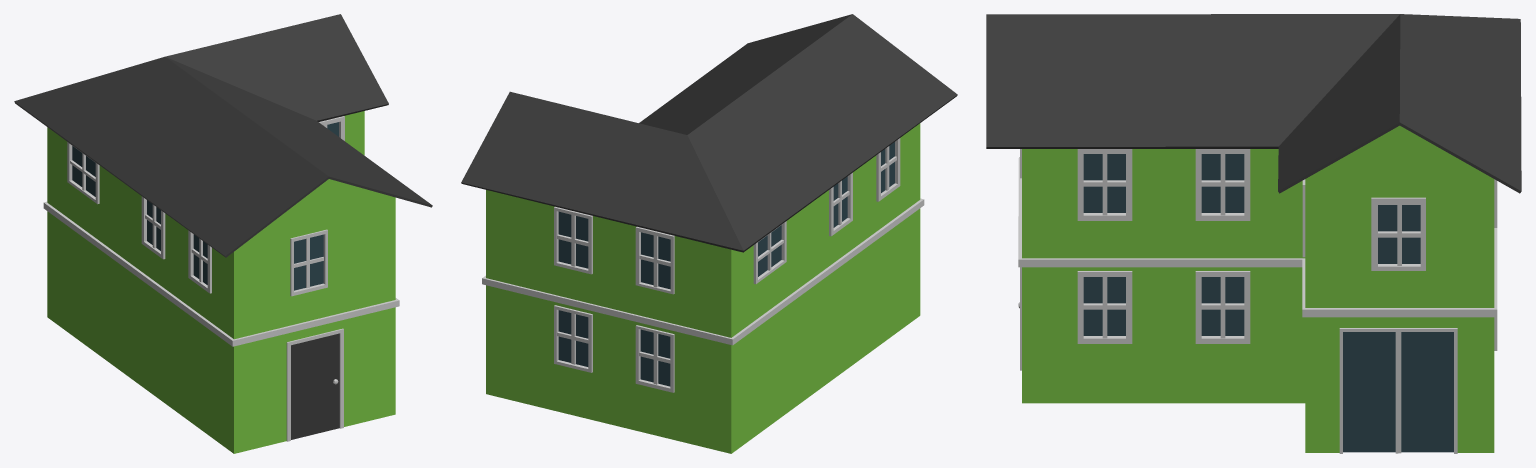
The model's file is greenhouse.glb.
3 views of the same model, side by side, from view 1: azimuth 30°, elevation 25°; view 2: azimuth 150°, elevation 25°; view 3: azimuth 270°, elevation 25° (orthographic). The views are drawn at different scales.
Parts seen in each view (by area): view 1: Seattle-House-2; view 2: Seattle-House-2; view 3: Seattle-House-2.
Part boxes in pixels (x1,y1,x2,y2): Seattle-House-2: (14,14,432,453); Seattle-House-2: (461,14,957,453); Seattle-House-2: (986,14,1521,453).
Bounding box in the file's own units: 6.91 × 6.35 × 9.07.
